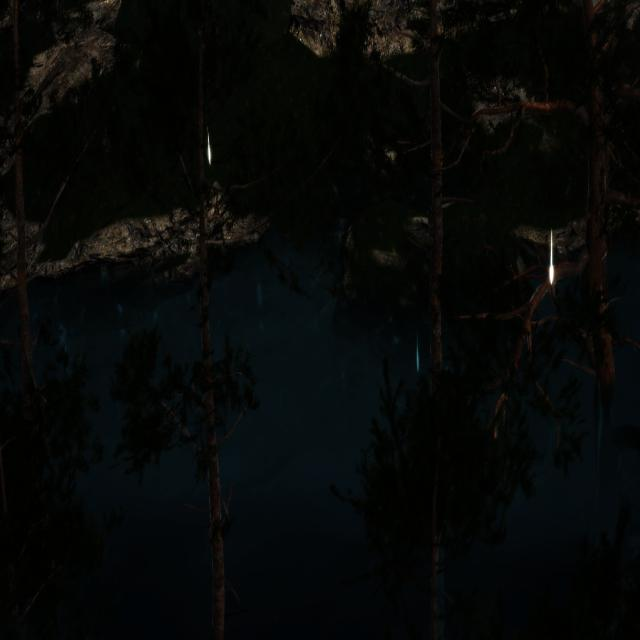Human: (201, 0, 222, 102)
